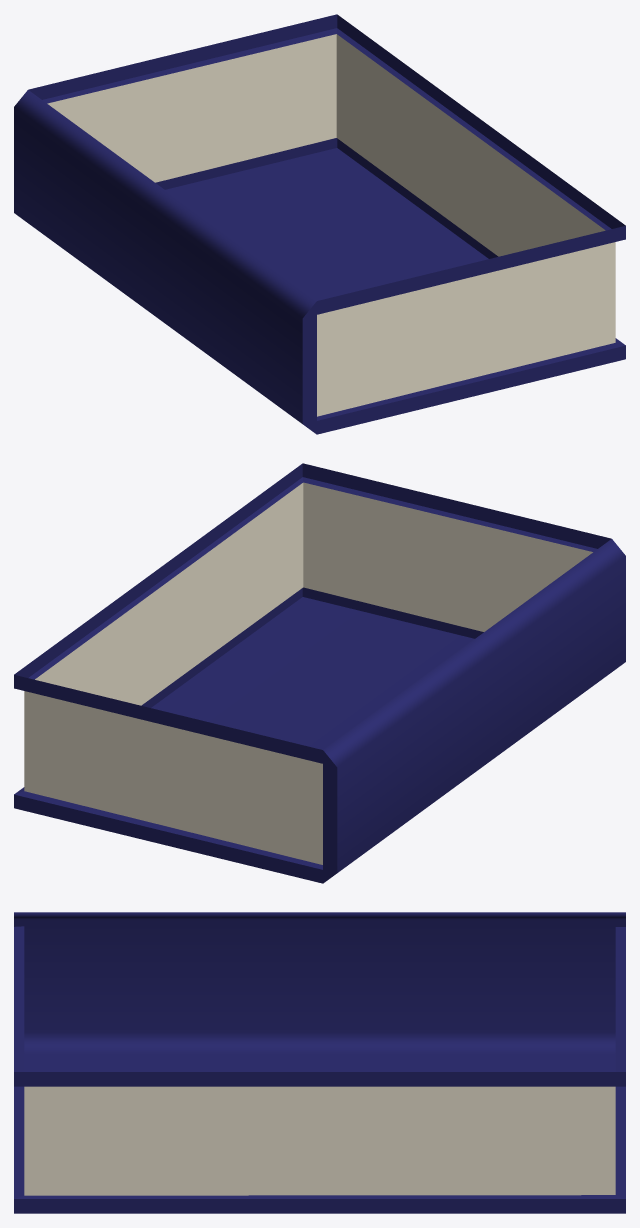
The model's file is SM_Book.fbx.
The picture shows the model from 3 angles, top to bottom: view 1: azimuth 30°, elevation 25°; view 2: azimuth 150°, elevation 25°; view 3: azimuth 270°, elevation 25°; orthographic projection. The views are drawn at different scales.
Parts seen in each view (by area): view 1: SM_Book; view 2: SM_Book; view 3: SM_Book.
Boxes of the visible parts, x1=… form: SM_Book: x1=14, y1=14, x2=625, y2=434; SM_Book: x1=14, y1=463, x2=625, y2=883; SM_Book: x1=14, y1=912, x2=625, y2=1213.
Bounding box in the file's own units: 0.218 × 0.0861 × 0.3374.
